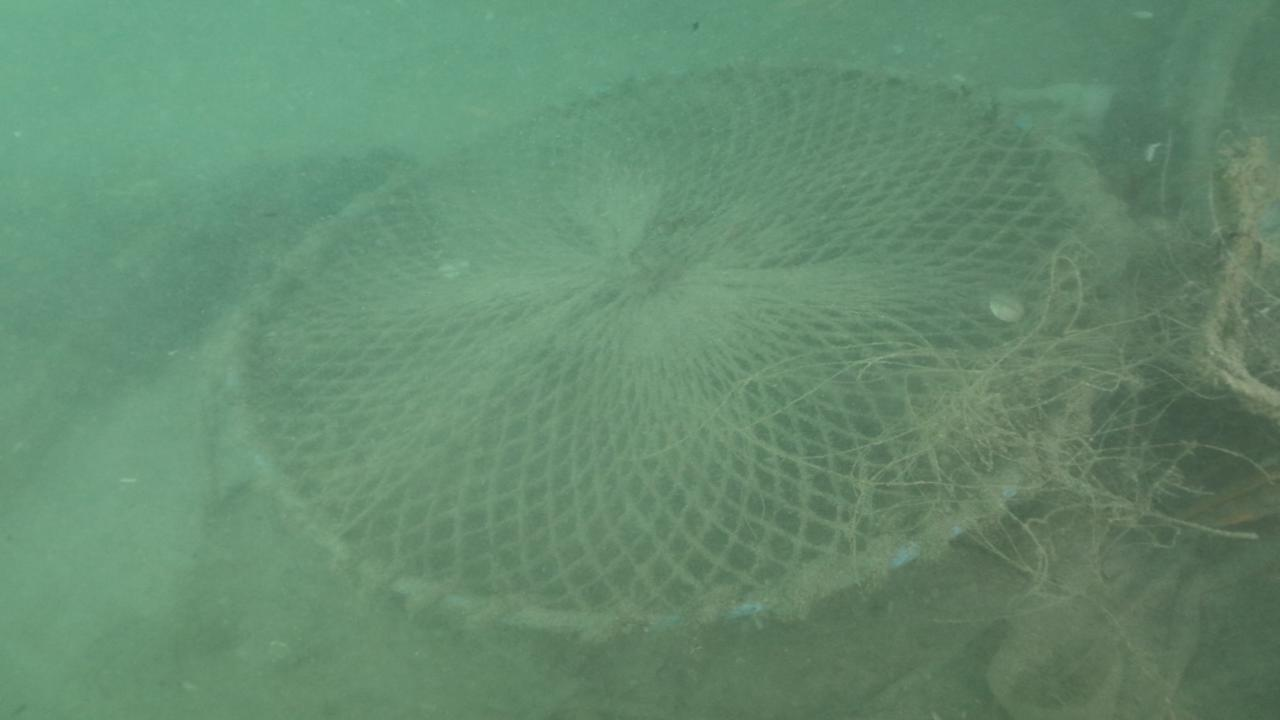circular fish trap: (214, 49, 1142, 635)
